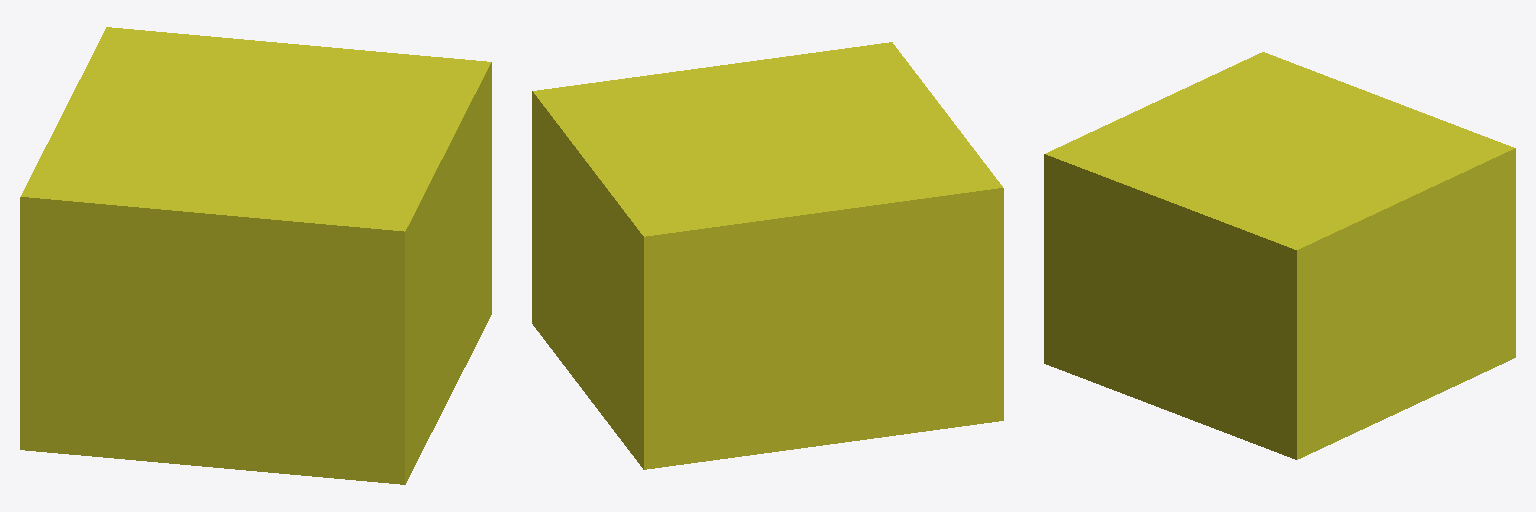
robot.urdf — Interference:
<?xml version="1.0"?>
<robot name="Interference">
  <link name="baseLink">
    <inertial>
      <origin xyz="0.0 0.0 0.0" rpy="0.0 0.0 0.0"/>
      <inertia ixx="0.0" ixy="0.0" ixz="0.0" iyy="0.0" iyz="0.0" izz="0.0"/>
      <mass value="0"/>
    </inertial>
    <visual>
      <origin xyz="0.0 0.0 0.0" rpy="0.0 0.0 -0.7348981097090742"/>
      <geometry>
        <box size="0.014085243736408841 0.014695455374413448 0.01"/>
      </geometry>
      <material name="color">
        <color rgba="0.8337363755604238 0.825649228694553 0.2255361662524148 1.0"/>
      </material>
    </visual>
  </link>
</robot>

--- What the picture shows (computed from the rendered views, not written in the file) ---
The picture shows the robot from 3 angles, left to right: view 1: azimuth 30°, elevation 25°; view 2: azimuth 150°, elevation 25°; view 3: azimuth 270°, elevation 25°; orthographic projection.
Model Interference with 1 links and 0 joints (none), rooted at baseLink, posed every joint at zero.
Links seen in each view (by area): view 1: baseLink; view 2: baseLink; view 3: baseLink.
Link boxes in pixels (bbox=[...]): baseLink: bbox=[20, 27, 491, 484]; baseLink: bbox=[532, 42, 1003, 469]; baseLink: bbox=[1044, 52, 1515, 459].
Bounding box of the posed robot: 0.0203 × 0.0203 × 0.01 m (x, y, z).
Geometry: primitives only (box / cylinder / sphere), no mesh files.